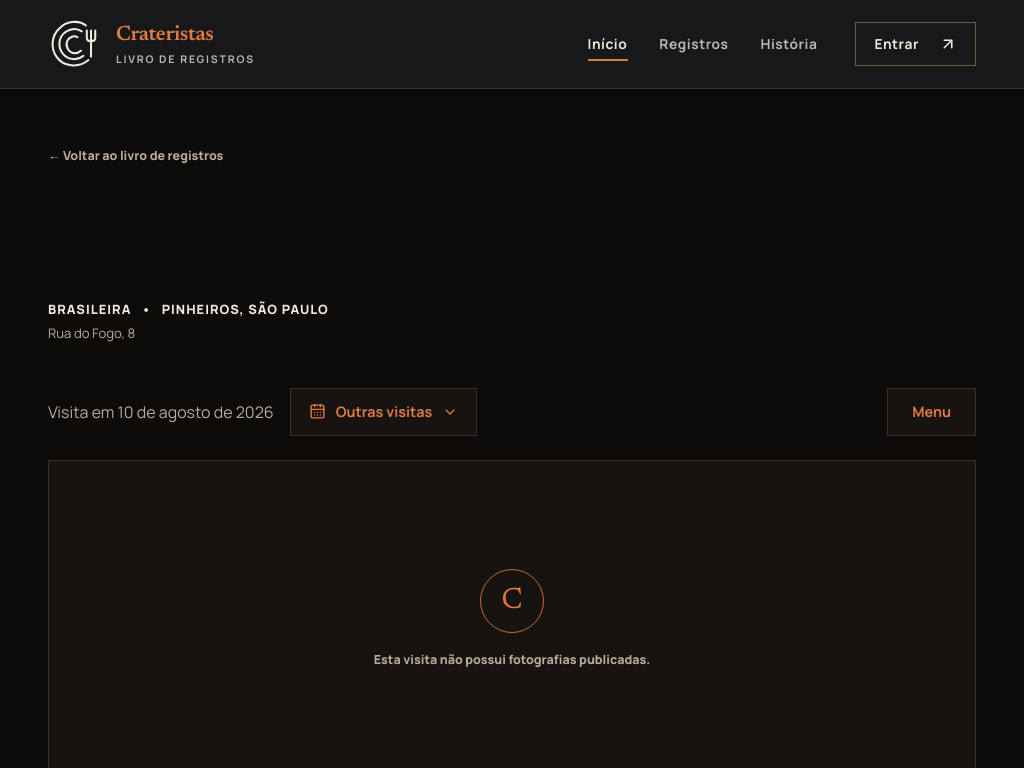
Test case: página pública de uma visita › aguarda o slug e compõe evidências públicas sem round-trip de API
Expected: the link "Entrar" is shown, [855,22,976,66]
Click the button "Outras visitas" at (384, 412), box [290,388,477,436]
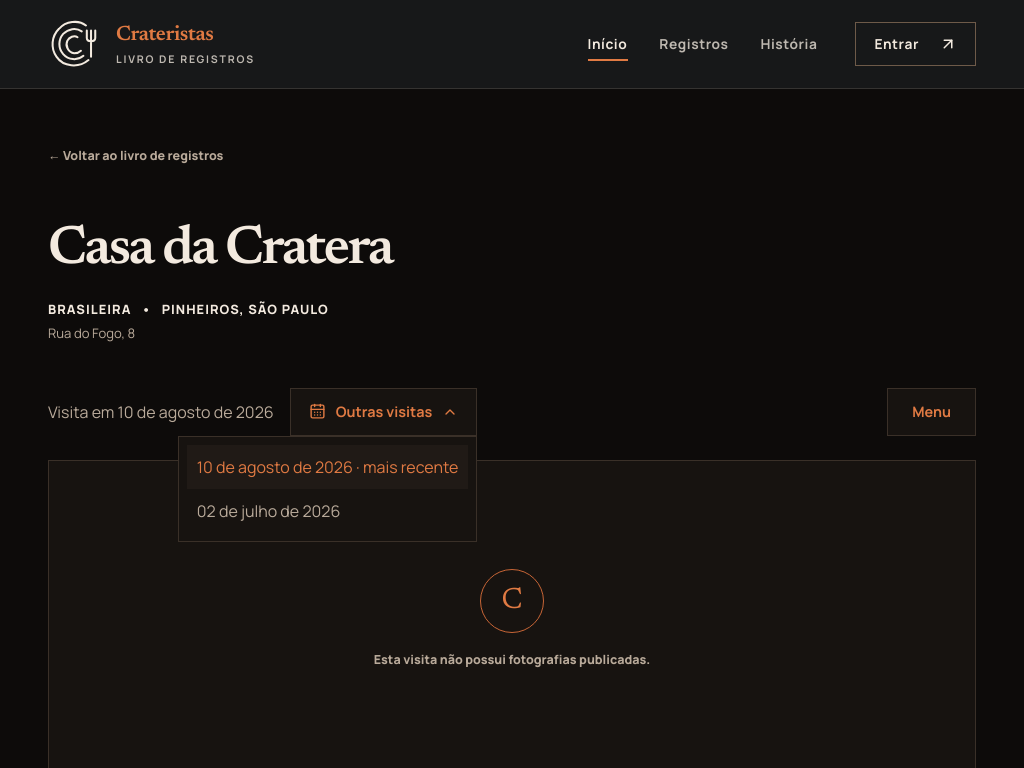
Result: the navigation bar named "Escolher data da visita" is shown at [178,436,477,542]
